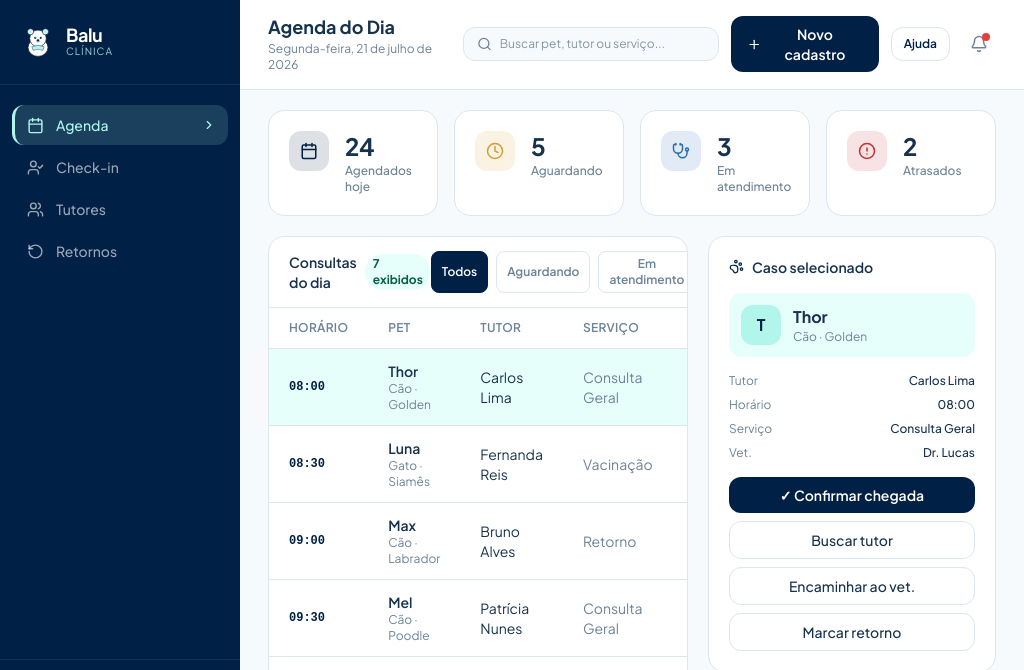
Test: oferece ajuda contextual na recepção
Click the button "Ajuda" at (920,44), box [891, 27, 950, 61]
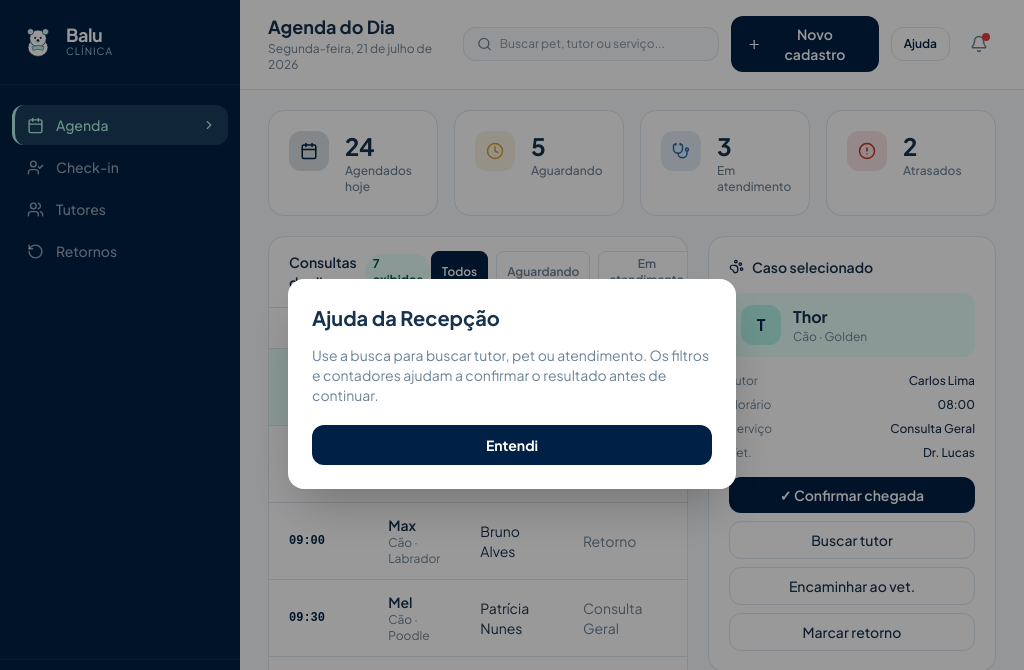
Expected: the text "buscar tutor" is shown, [312, 346, 709, 404]
